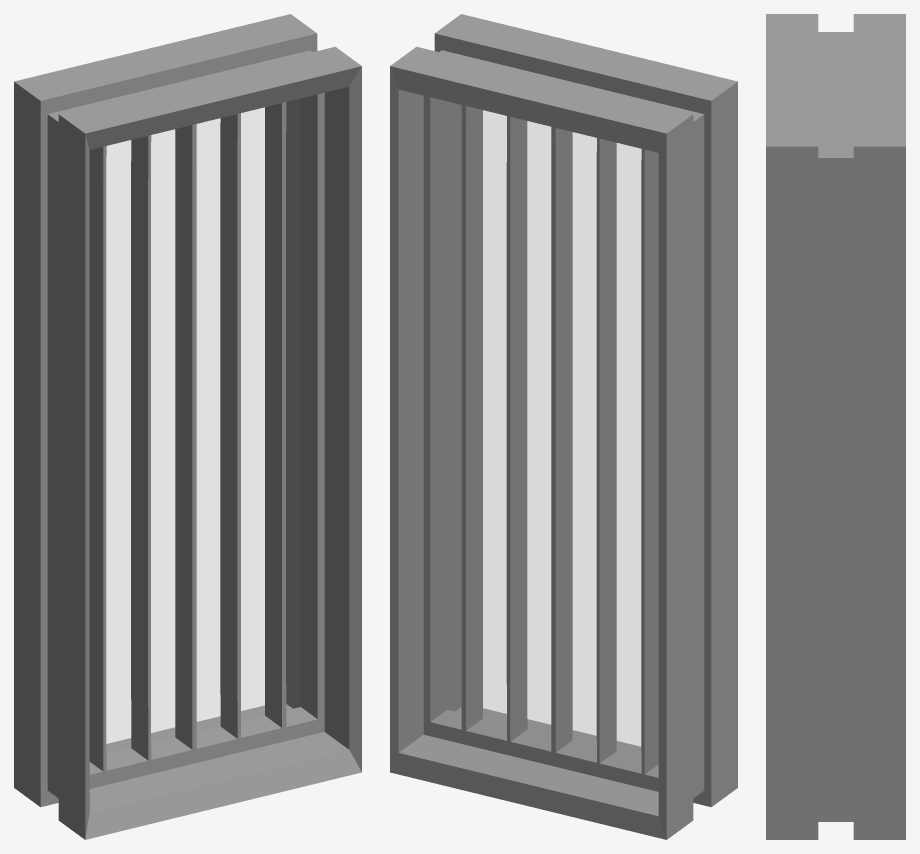
File: Window.fbx
The picture shows the model from 3 angles, left to right: view 1: azimuth 30°, elevation 25°; view 2: azimuth 150°, elevation 25°; view 3: azimuth 270°, elevation 25°; orthographic projection.
Parts seen in each view (by area): view 1: Window, Window1; view 2: Window, Window1; view 3: Window.
Part boxes in pixels (x1=…): Window: x1=14, y1=14, x2=361, y2=839; Window1: x1=107, y1=99, x2=299, y2=753; Window: x1=390, y1=14, x2=737, y2=839; Window1: x1=399, y1=90, x2=657, y2=815; Window: x1=766, y1=14, x2=905, y2=839.
Bounding box in the file's own units: 882 × 2151 × 393.
2 materials, 1 textured.
